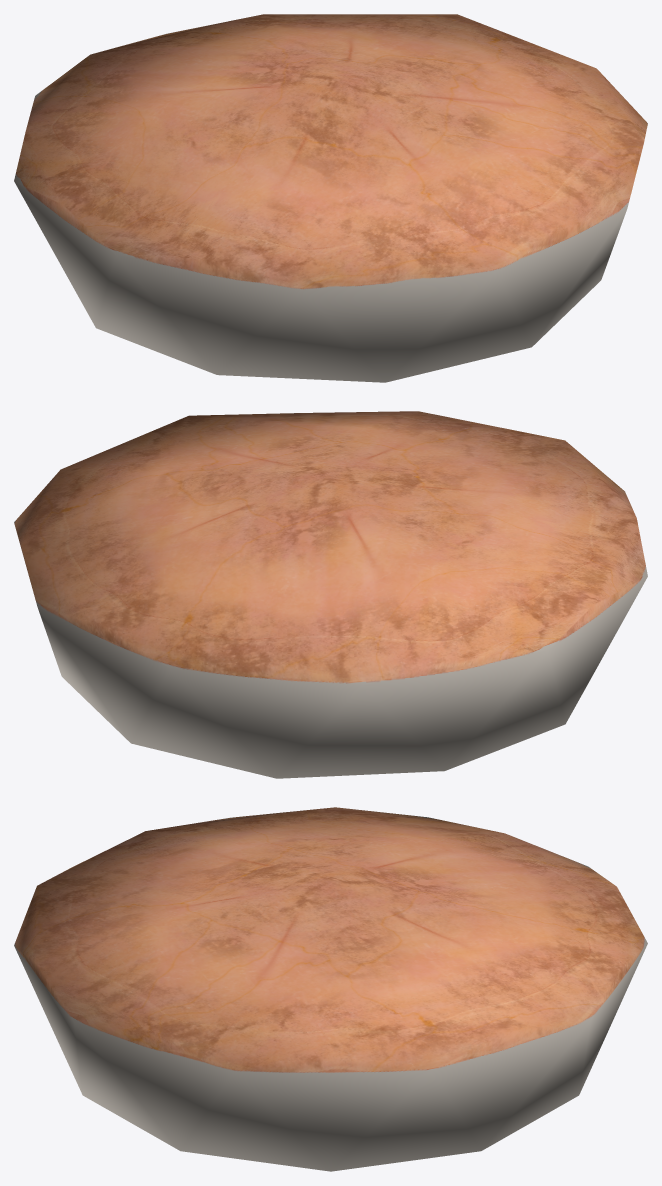
The model's file is Pie.fbx.
The picture shows the model from 3 angles, top to bottom: view 1: azimuth 30°, elevation 25°; view 2: azimuth 150°, elevation 25°; view 3: azimuth 270°, elevation 25°; orthographic projection. The views are drawn at different scales.
Parts seen in each view (by area): view 1: PieShell; view 2: PieShell; view 3: PieShell.
Part boxes in pixels (x1,y1,x2,y2): PieShell: (14, 14, 647, 382); PieShell: (14, 411, 647, 778); PieShell: (14, 807, 647, 1171).
Bounding box in the file's own units: 2.99 × 1.01 × 3.14.
1 material, 1 textured.
